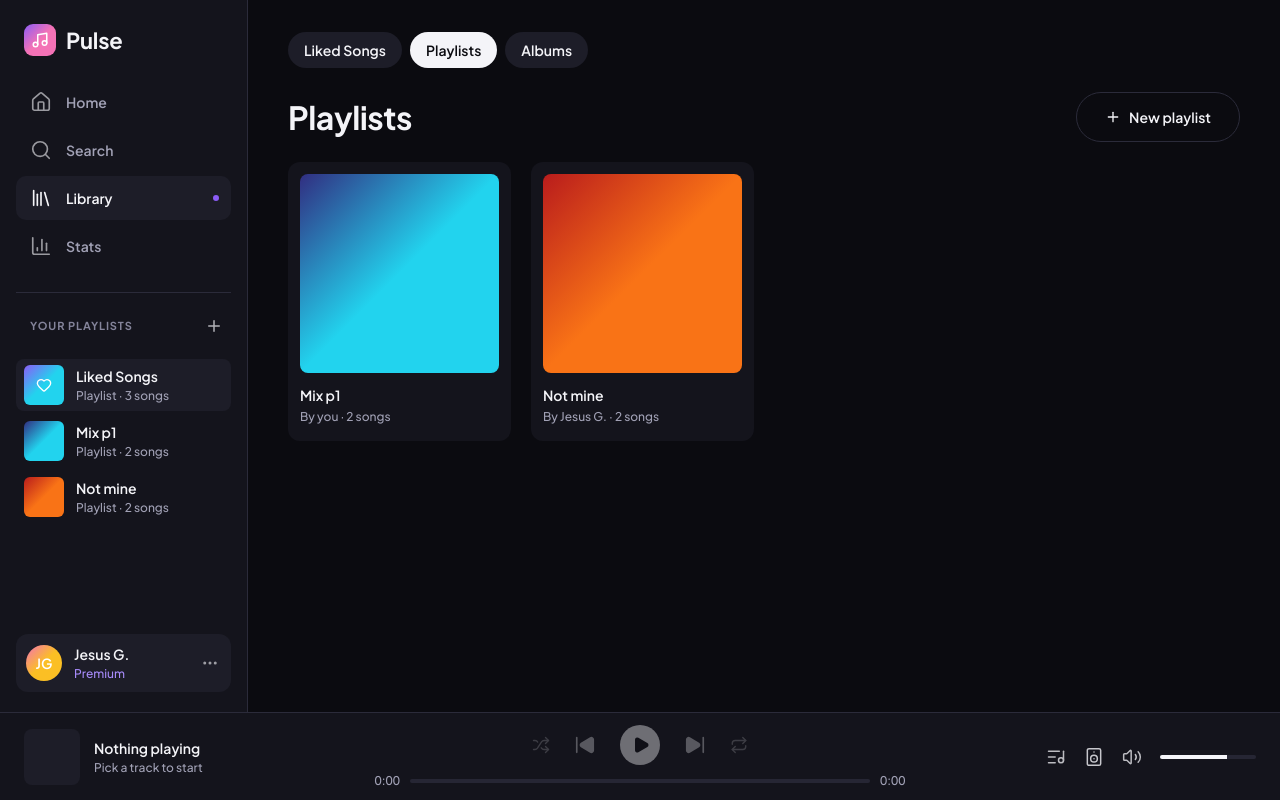
Scenario: Playlists › creates a playlist from the dialog and opens it
Click the button "New playlist" at (1158, 117), box [1076,92,1240,142]
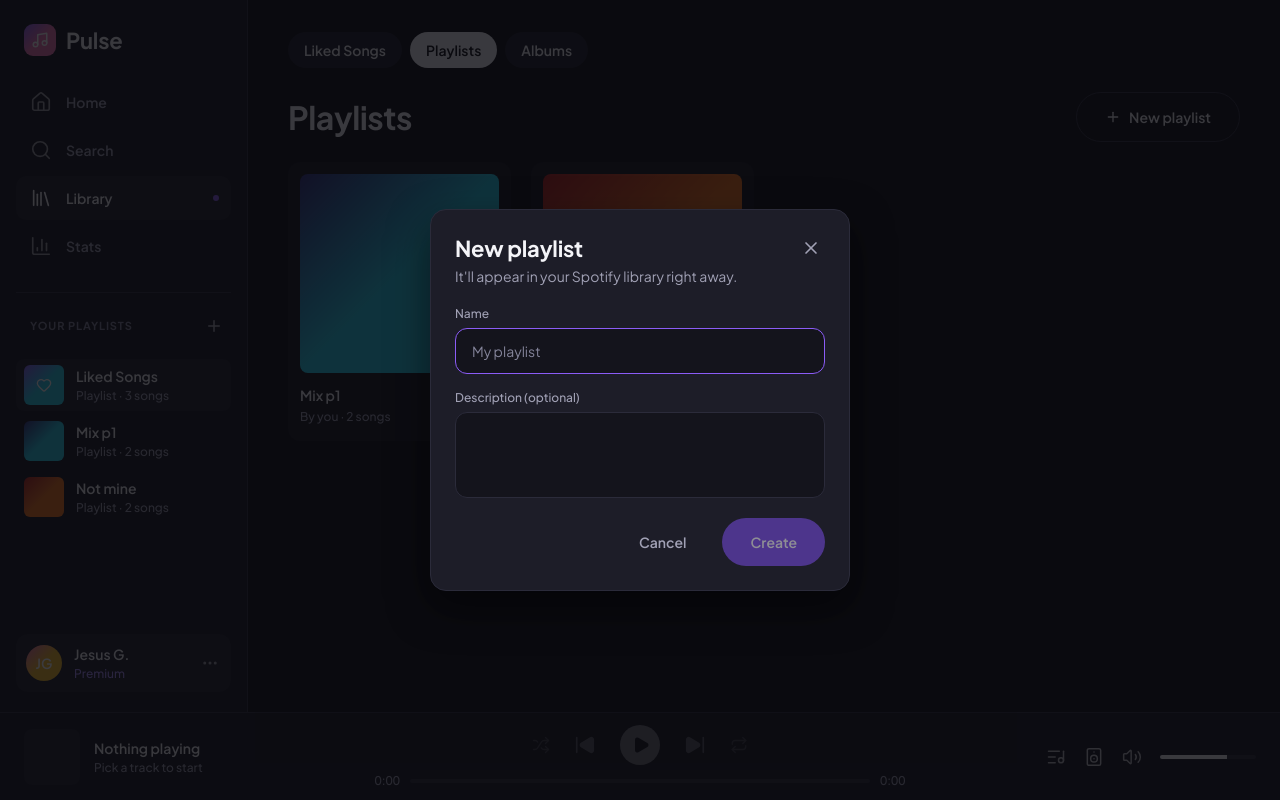
Type "  Road trip " into the field labelled "Name" at (640, 351), box [455,328,825,374]
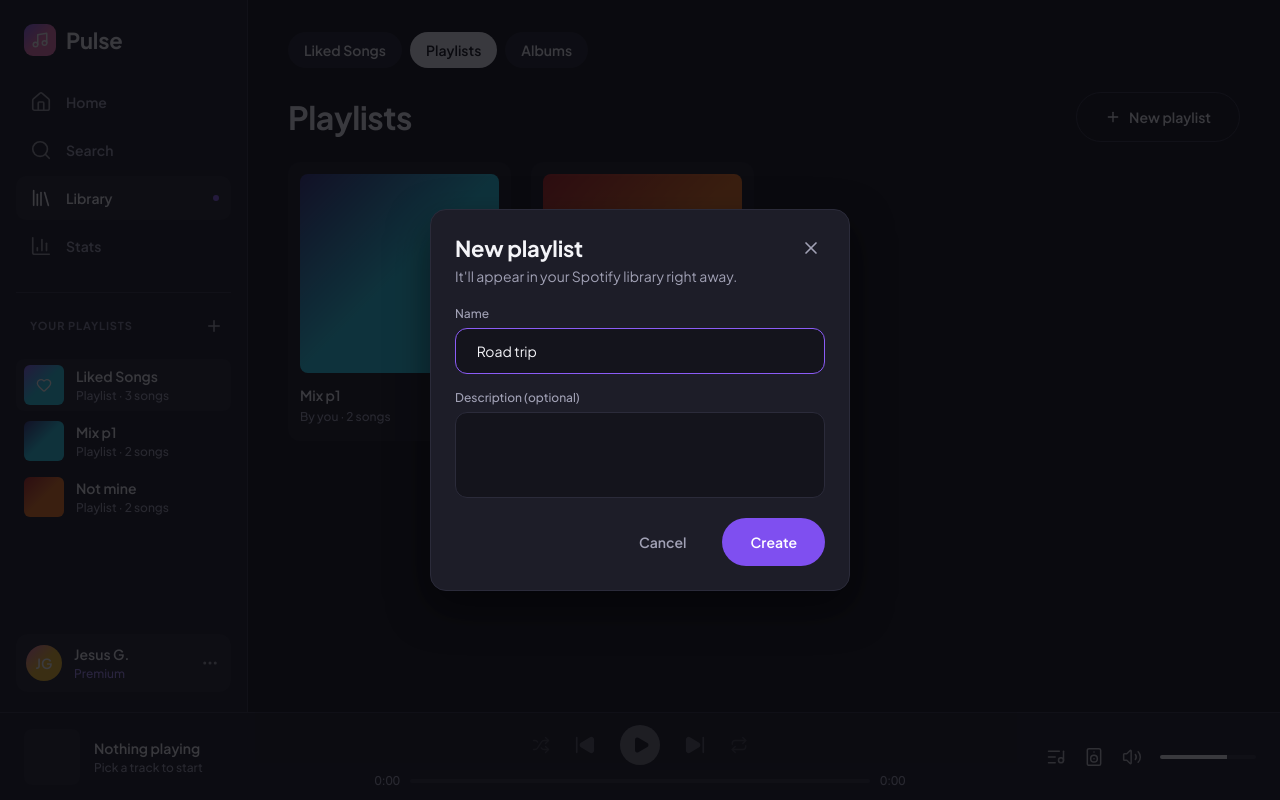
Click the button "Create" at (774, 542), box [722,518,825,566]
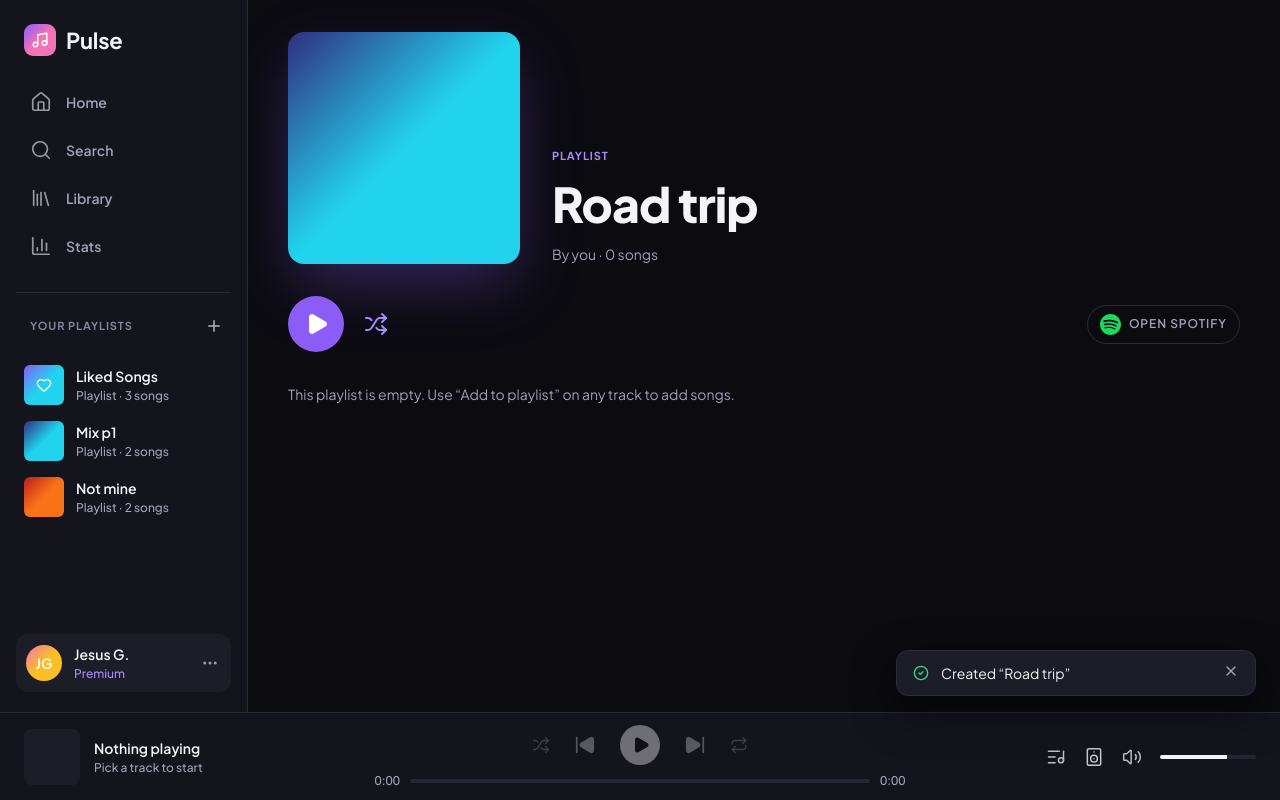
Result: the heading "Road trip" is shown at [552,176,758,232]
Result: the text "This playlist is empty" is shown at [288,385,735,403]
